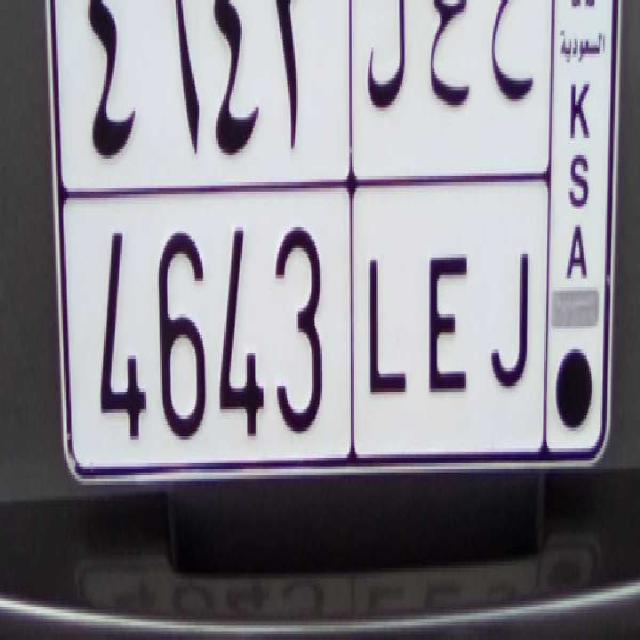license_plate: (64, 181, 548, 474)
